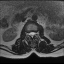CCS_normal: (31, 30, 33, 39)
LFS_stenosis: (35, 29, 37, 36)
LLS_normal: (33, 30, 35, 37)
RFS_stenosis: (27, 30, 29, 36)
RLS_normal: (29, 30, 31, 37)
